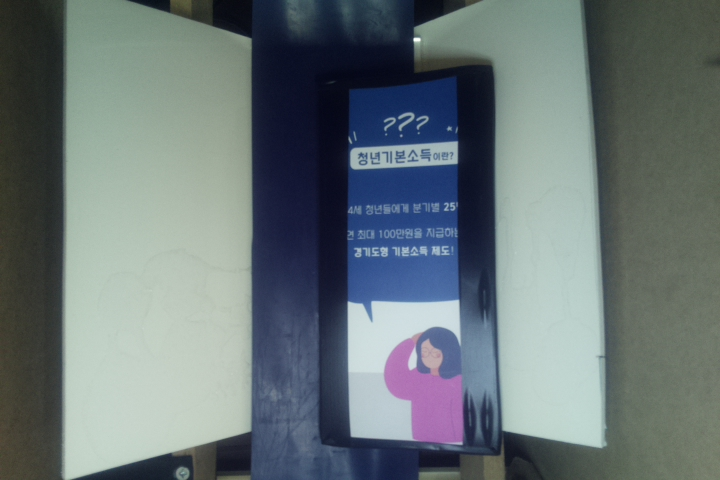book: (321, 64, 501, 456)
